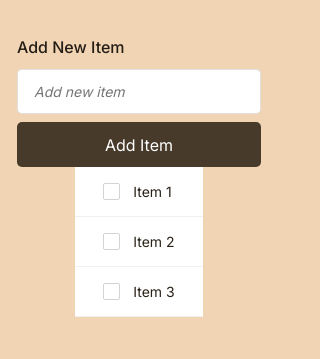
Test: AddItemForm › adds a new item to the list
The image size is (320, 359).
Type "Water Bottle" into the field with placeholder "Add new item".
click(139, 92); type("Water Bottle")  # box [17,69,261,114]
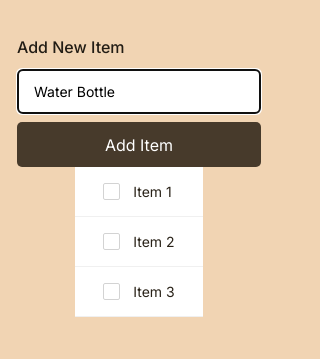
Click the button "Add Item".
click(139, 144)  # box [17,122,261,167]
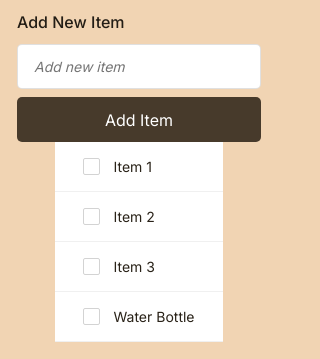
expect the text "Water Bottle" is shown: met, box [84,308,194,325]
expect the field with placeholder "Add new item" is empty: met, box [17,44,261,89]
